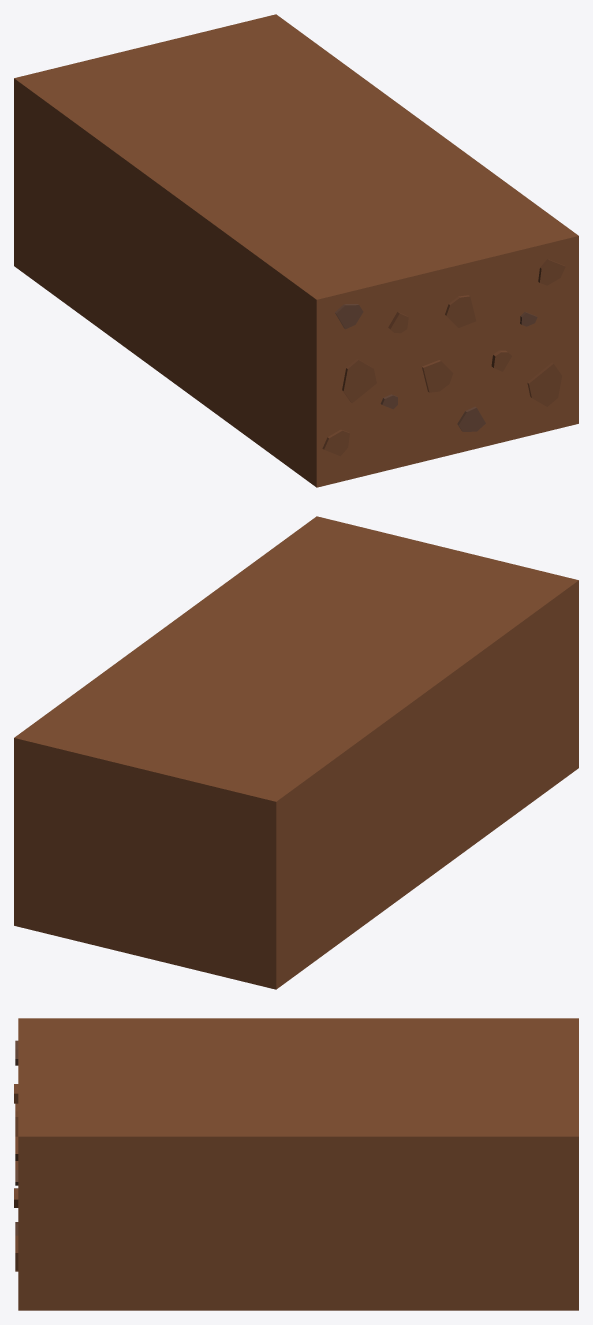
Rendered from underground_03.fbx.
3 views of the same model, one above another, from view 1: azimuth 30°, elevation 25°; view 2: azimuth 150°, elevation 25°; view 3: azimuth 270°, elevation 25° (orthographic). The views are drawn at different scales.
Parts seen in each view (by area): view 1: underground_03; view 2: underground_03; view 3: underground_03.
Boxes of the visible parts, left/top/right/bottom form: underground_03: left=14, top=14, right=578, bottom=487; underground_03: left=14, top=516, right=578, bottom=989; underground_03: left=14, top=1018, right=578, bottom=1310.
Bounding box in the file's own units: 192 × 131 × 387.
